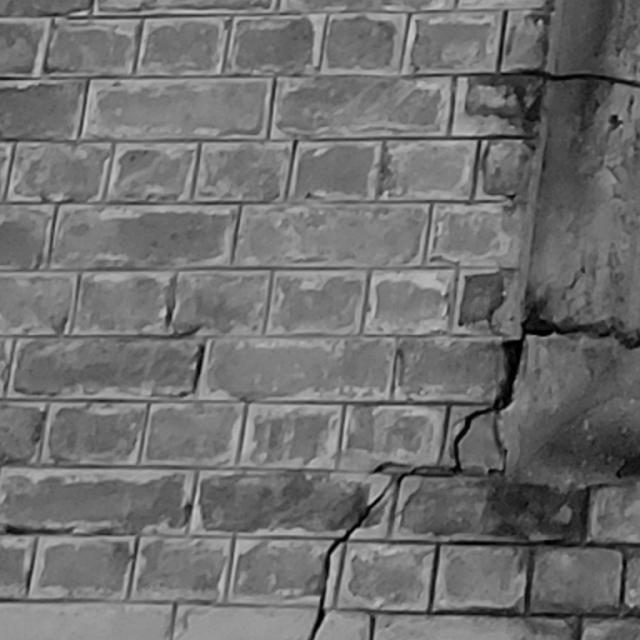crack: (308, 339, 522, 639)
